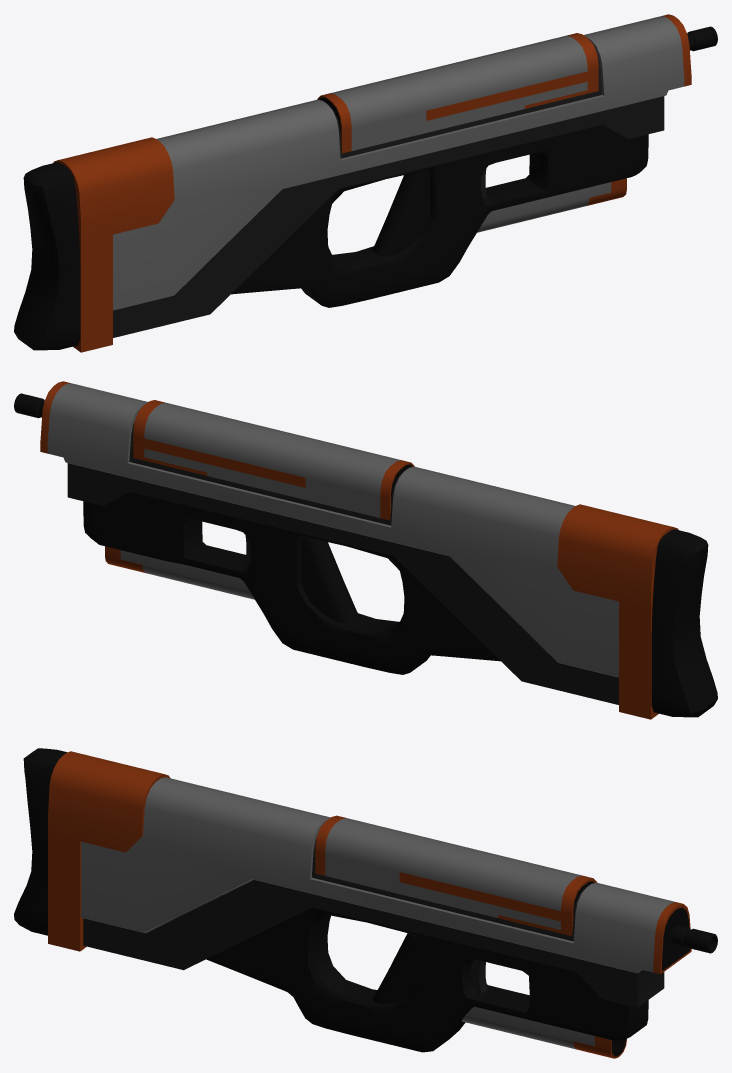
3 views of the same model, one above another, from view 1: azimuth 30°, elevation 25°; view 2: azimuth 150°, elevation 25°; view 3: azimuth 330°, elevation 25° (orthographic).
Parts seen in each view (by area): view 1: AR_6_Cube.094; view 2: AR_6_Cube.094; view 3: AR_6_Cube.094.
Part boxes in pixels (x1=…): AR_6_Cube.094: x1=14, y1=14, x2=717, y2=352; AR_6_Cube.094: x1=14, y1=381, x2=717, y2=719; AR_6_Cube.094: x1=14, y1=748, x2=717, y2=1058.
Size of the model in its own units: 1.76 by 0.4944 by 0.1456.
